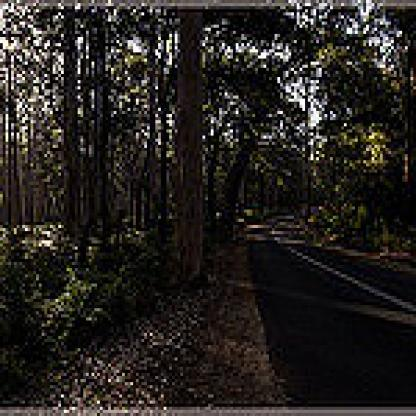road: (239, 200, 413, 413)
trunk: (166, 12, 208, 290), (61, 0, 83, 231)
